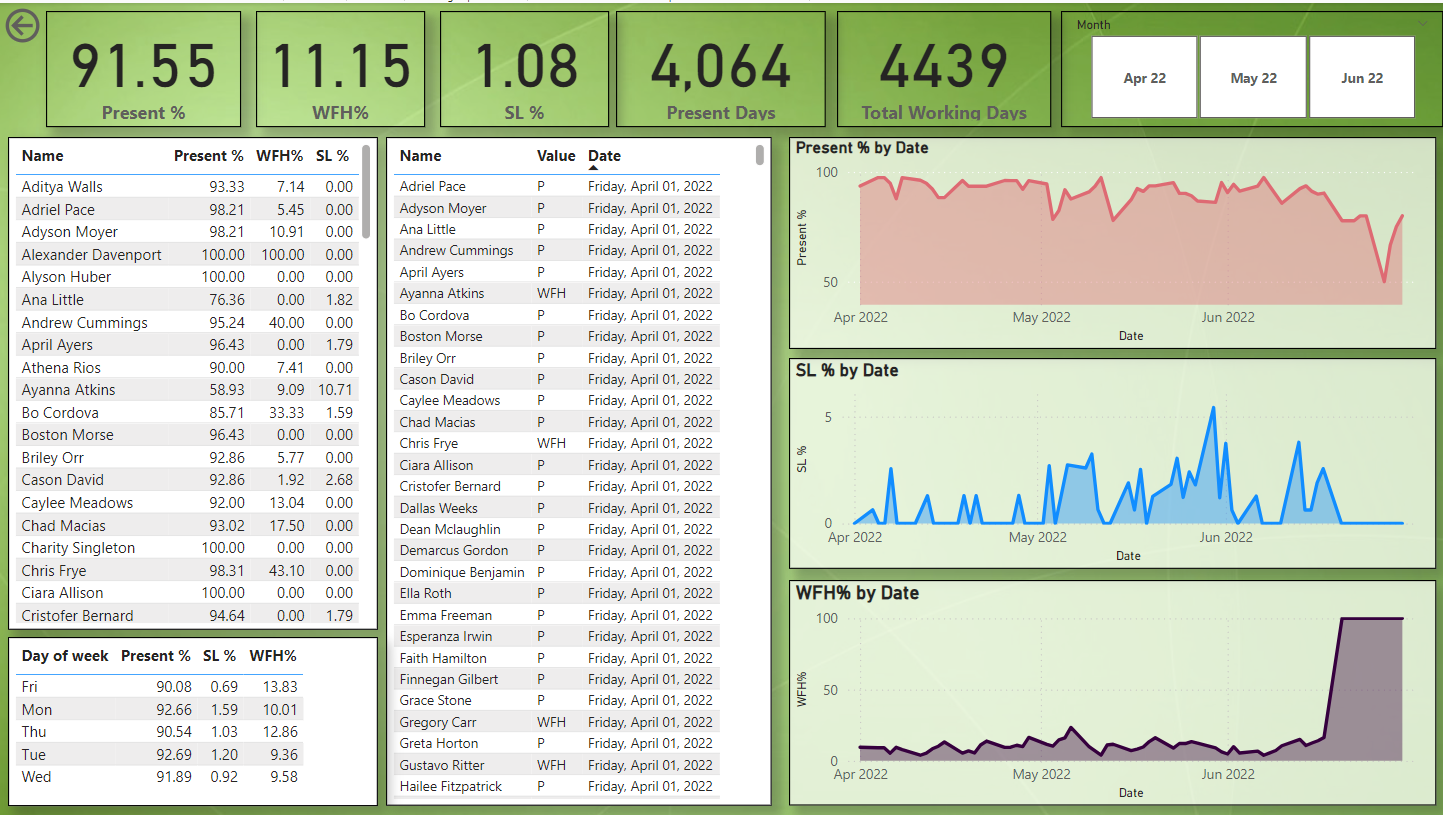

What the dashboard file says about the page in this screenshot:
{"tool":"powerbi","page":{"name":"Page 1","canvas":[1280,720],"ordinal":0},"visuals":[{"type":"slicer","fields":{"Values":["Final Data.Month"]},"box":[940.5,6.8,339.5,103.1],"z":0},{"type":"actionButton","box":[0,0,100,40],"z":1000},{"type":"card","fields":{"Values":["Measure Table.Present %"]},"box":[40.9,6.8,173.1,103.1],"z":2000},{"type":"card","fields":{"Values":["Measure Table.WFH%"]},"box":[226.6,6.8,149.8,103.1],"z":3000},{"type":"card","fields":{"Values":["Measure Table.SL %"]},"box":[390,6.8,149.8,103.1],"z":4000},{"type":"card","fields":{"Values":["Measure Table.Present Days"]},"box":[546.6,6.8,185.8,103.1],"z":5000},{"type":"card","fields":{"Values":["Measure Table.Total Working Days"]},"box":[742.1,6.8,189.7,103.1],"z":6000},{"type":"tableEx","fields":{"Values":["Final Data.Name","Measure Table.Present %","Measure Table.WFH%","Measure Table.SL %"]},"box":[6.8,118.7,327.8,436.7],"z":7000},{"type":"tableEx","fields":{"Values":["Final Data.Name","Final Data.Value","Final Data.Date"]},"box":[342.4,118.7,342.4,593.3],"z":8000},{"type":"lineChart","fields":{"Category":["Final Data.Date"],"Y":["Measure Table.Present %"]},"box":[699.3,118.7,573.9,187.7],"z":9000},{"type":"stackedAreaChart","fields":{"Category":["Final Data.Date"],"Y":["Measure Table.SL %"]},"box":[699.3,315.1,573.9,186.7],"z":9001},{"type":"stackedAreaChart","fields":{"Category":["Final Data.Date"],"Y":["Measure Table.WFH%"]},"box":[699.3,511.6,573.9,200.4],"z":9002},{"type":"tableEx","fields":{"Values":["Final Data.Day of week","Measure Table.Present %","Measure Table.SL %","Measure Table.WFH%"]},"box":[6.8,562.2,327.8,149.8],"z":9003}]}

Visuals, with their boxes in screenshot pixels (x1, y1, x2, y2), scaled from the page's 1280x720 canvas onto the 1443x815 screenshot:
slicer - Final Data.Month: [1060, 8, 1442, 124]
actionButton: [0, 0, 113, 45]
card - Measure Table.Present %: [46, 8, 241, 124]
card - Measure Table.WFH%: [255, 8, 424, 124]
card - Measure Table.SL %: [440, 8, 609, 124]
card - Measure Table.Present Days: [616, 8, 826, 124]
card - Measure Table.Total Working Days: [837, 8, 1050, 124]
tableEx - Final Data.Name x Measure Table.Present %: [8, 134, 377, 629]
tableEx - Final Data.Name x Final Data.Value: [386, 134, 772, 806]
lineChart - Final Data.Date x Measure Table.Present %: [788, 134, 1435, 347]
stackedAreaChart - Final Data.Date x Measure Table.SL %: [788, 357, 1435, 568]
stackedAreaChart - Final Data.Date x Measure Table.WFH%: [788, 579, 1435, 806]
tableEx - Final Data.Day of week x Measure Table.Present %: [8, 636, 377, 806]
